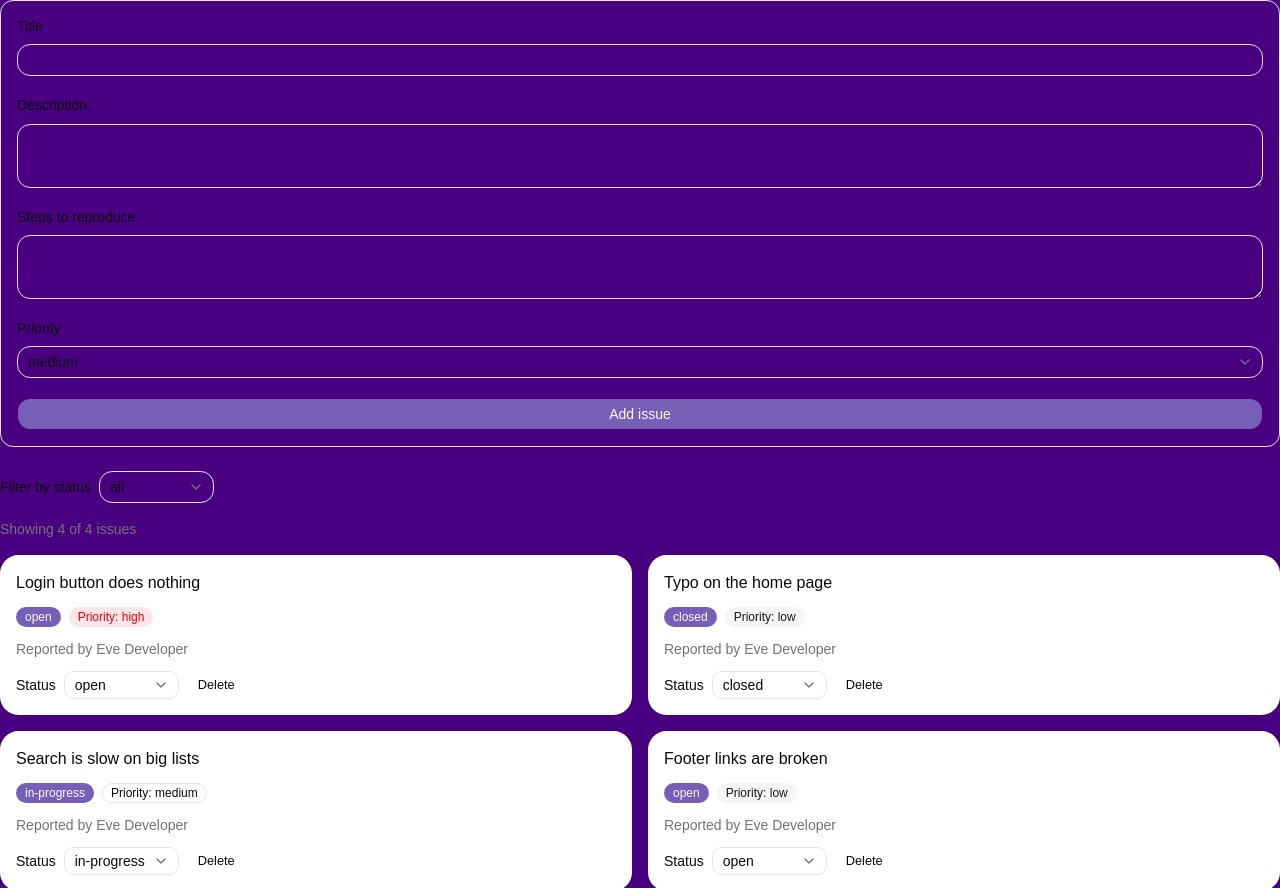
Test: IssueListPage (changing data) › shows the server message and adds nothing when the API refuses
This screenshot has width=1280, height=888.
Expected: the text "Showing 4 of 4 issues" is shown, [0,521,136,537]
Type "Dark mode flickers" into the field labelled "Title". click: (640, 60)
box: [17,44,1263,76]
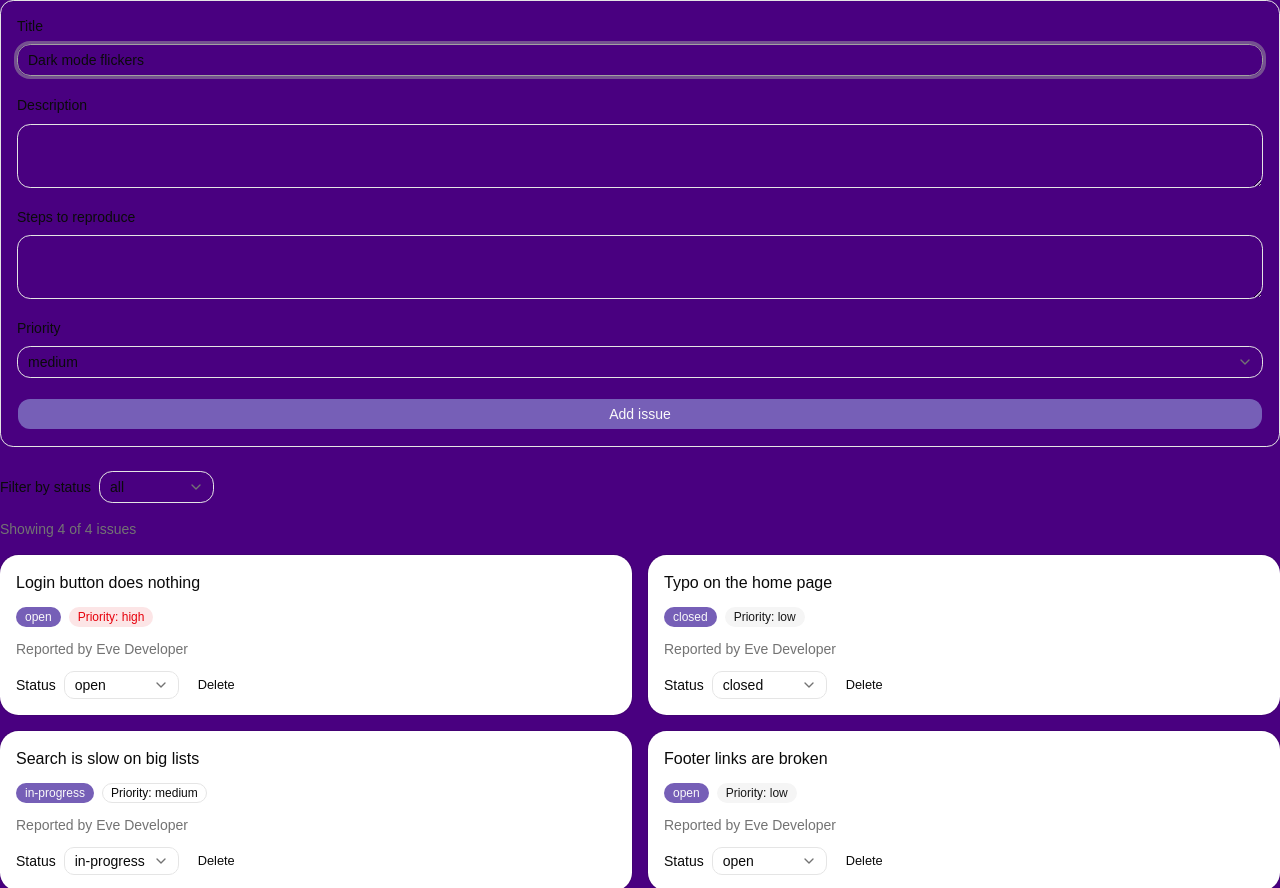
Type "A description" into the text box labelled "Description". click: (640, 156)
box: [17,124,1263,188]
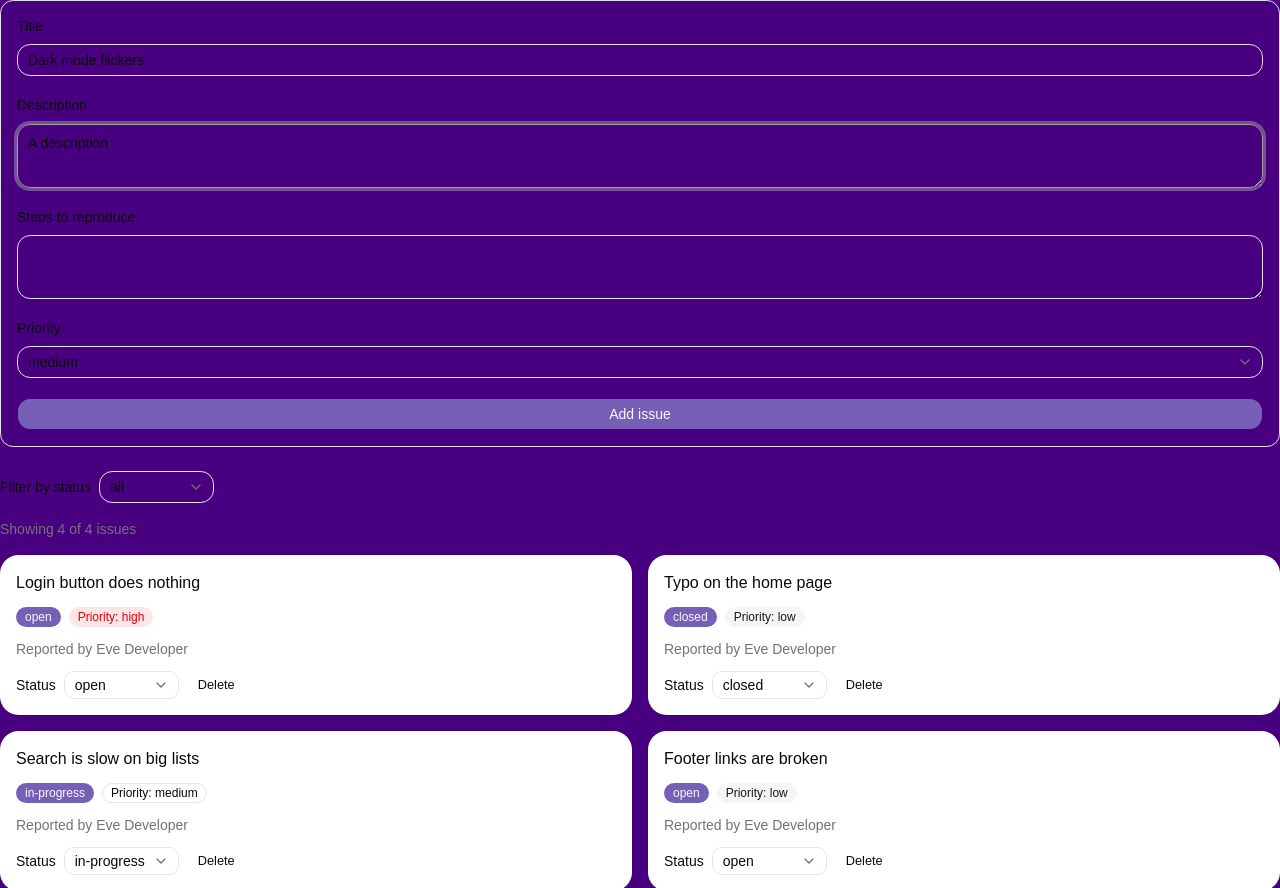
Type "Some steps" into the text box labelled "Steps to reproduce". click: (640, 267)
box: [17,235,1263,299]
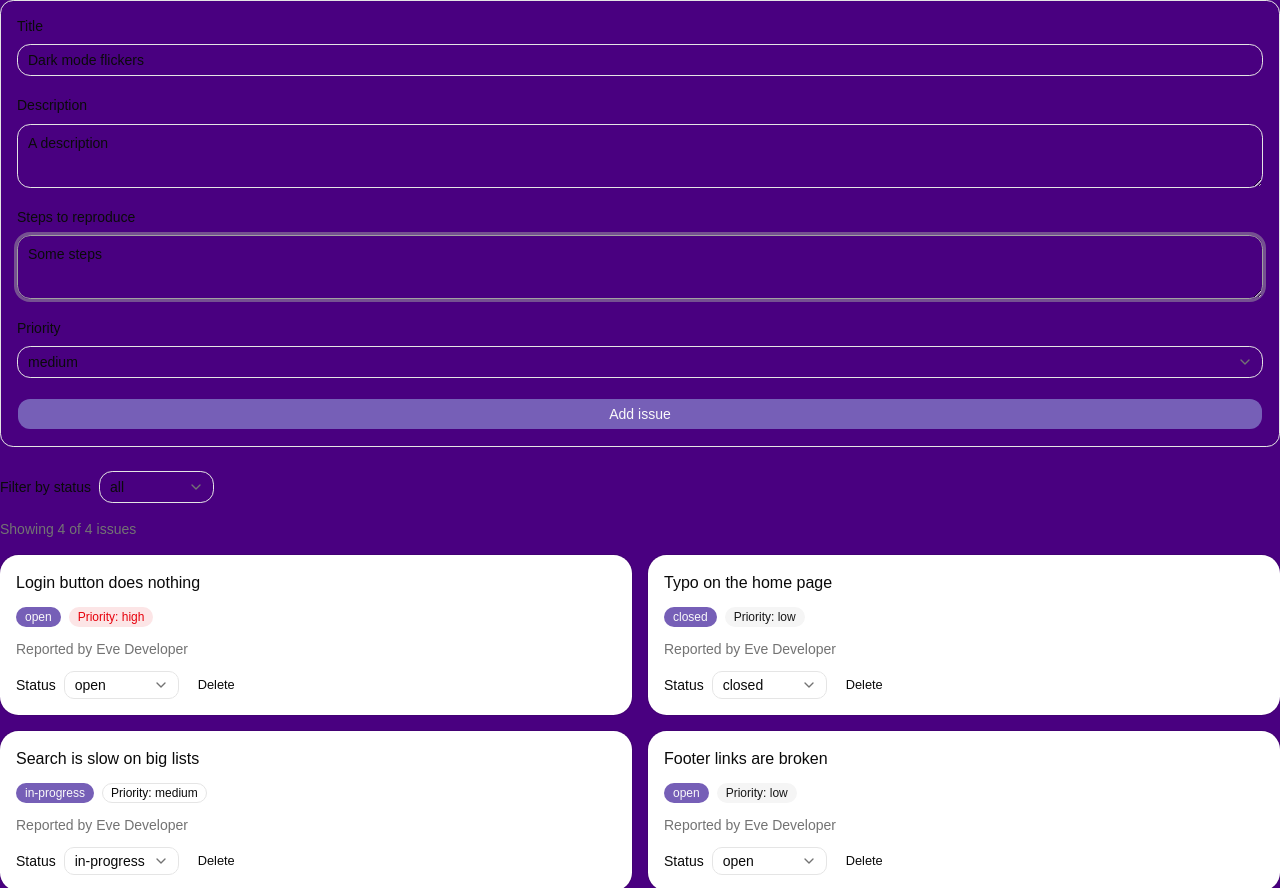
Click the button "Add issue". click: (640, 414)
box: [17,398,1263,430]
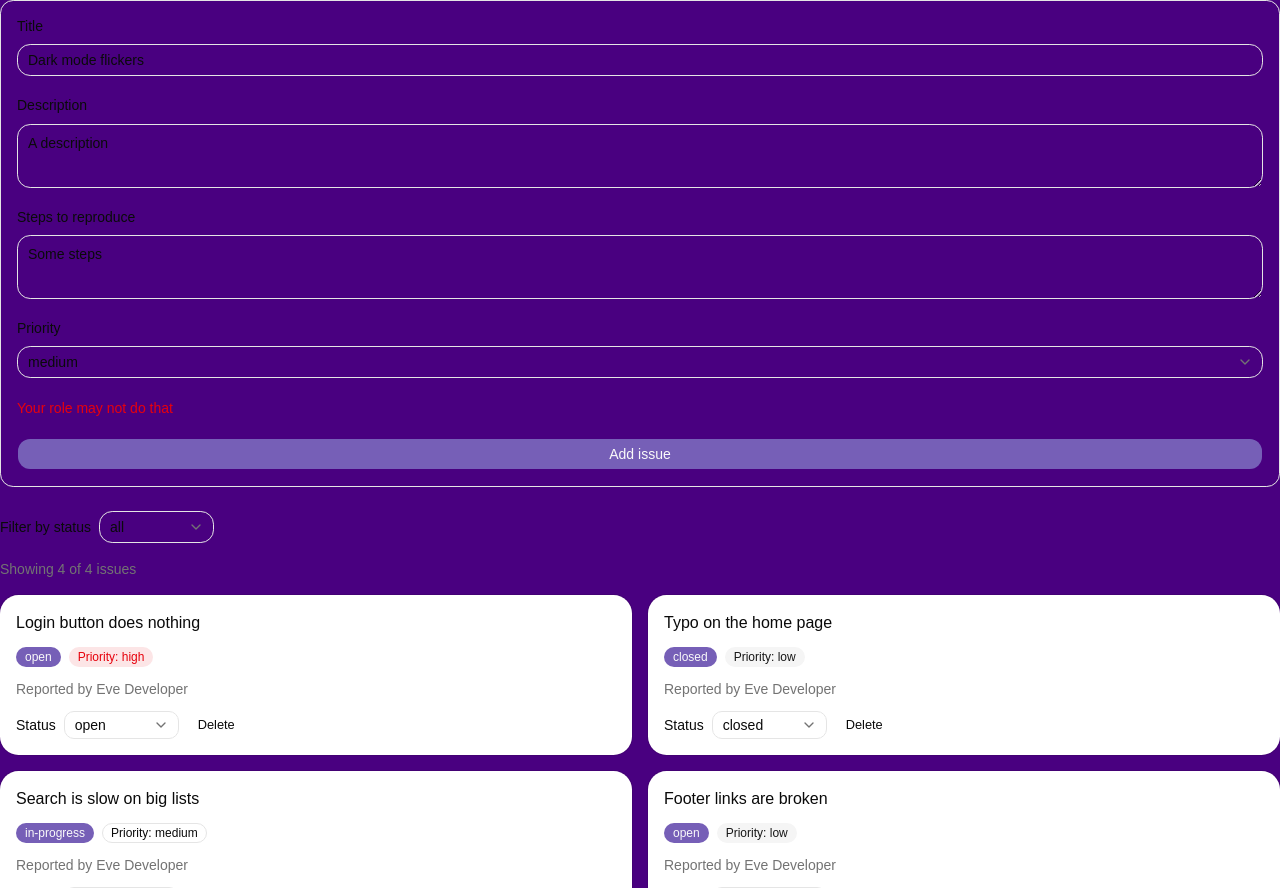
Expected: the text "Showing 4 of 4 issues" is shown, [0,561,136,577]
Expected: the text "Your role may not do that" is shown, [17,400,173,416]
